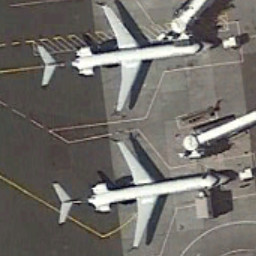Airplane: (48, 132, 238, 253), (24, 1, 222, 116)
